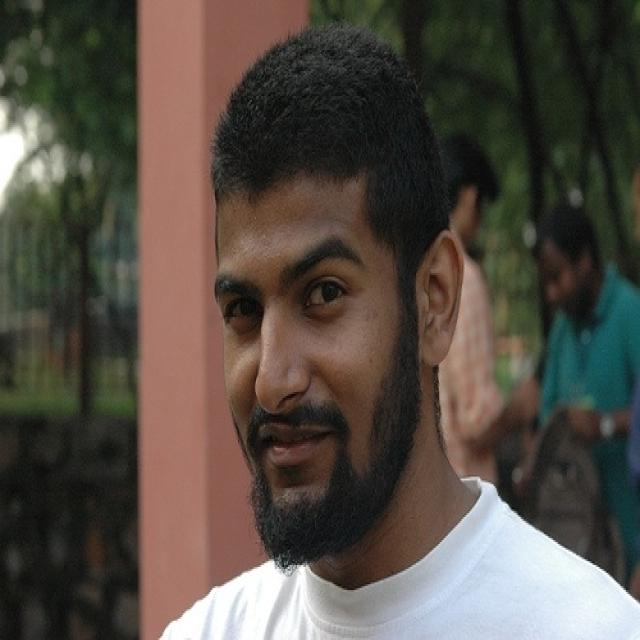piel: (214, 174, 476, 591)
